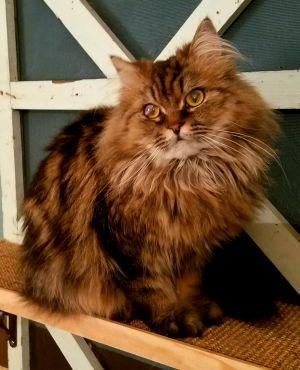persian: (109, 14, 260, 168)
